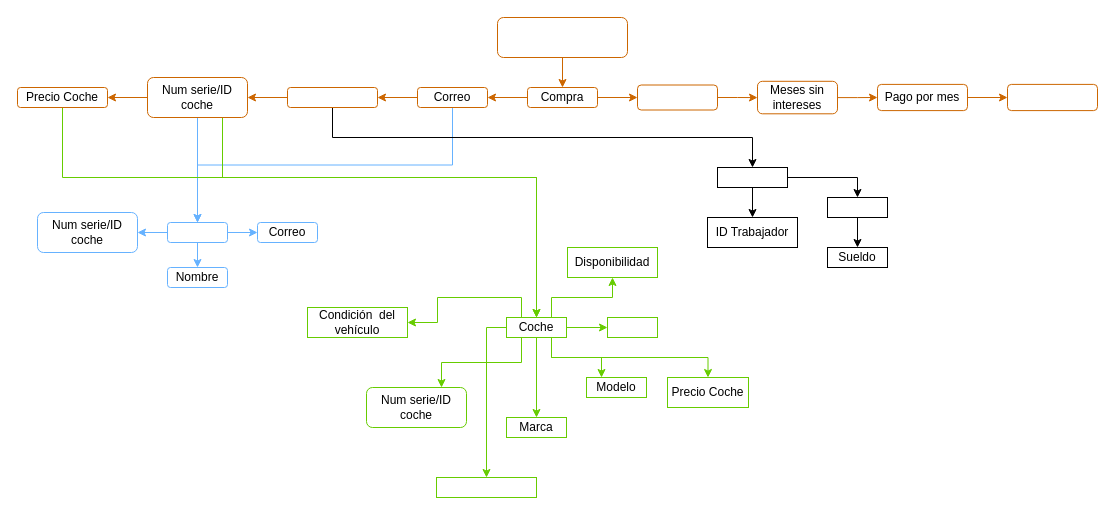
Some shapes in this 1115 by 515 pixel diagram are drawn without their labels. The shapes that lost their labels are listed below. From the top down, each one's centre as x and y in pixels, then its label:
At [562,37]: "Ticket".
At [332,97]: "ID Vendedor".
At [677,97]: "Tipo de pago".
At [1052,97]: "Pago total".
At [752,177]: "Trabajador".
At [857,207]: "Puesto".
At [197,232]: "Cliente".
At [632,327]: "Color".
At [486,487]: "Fecha de ingreso".
